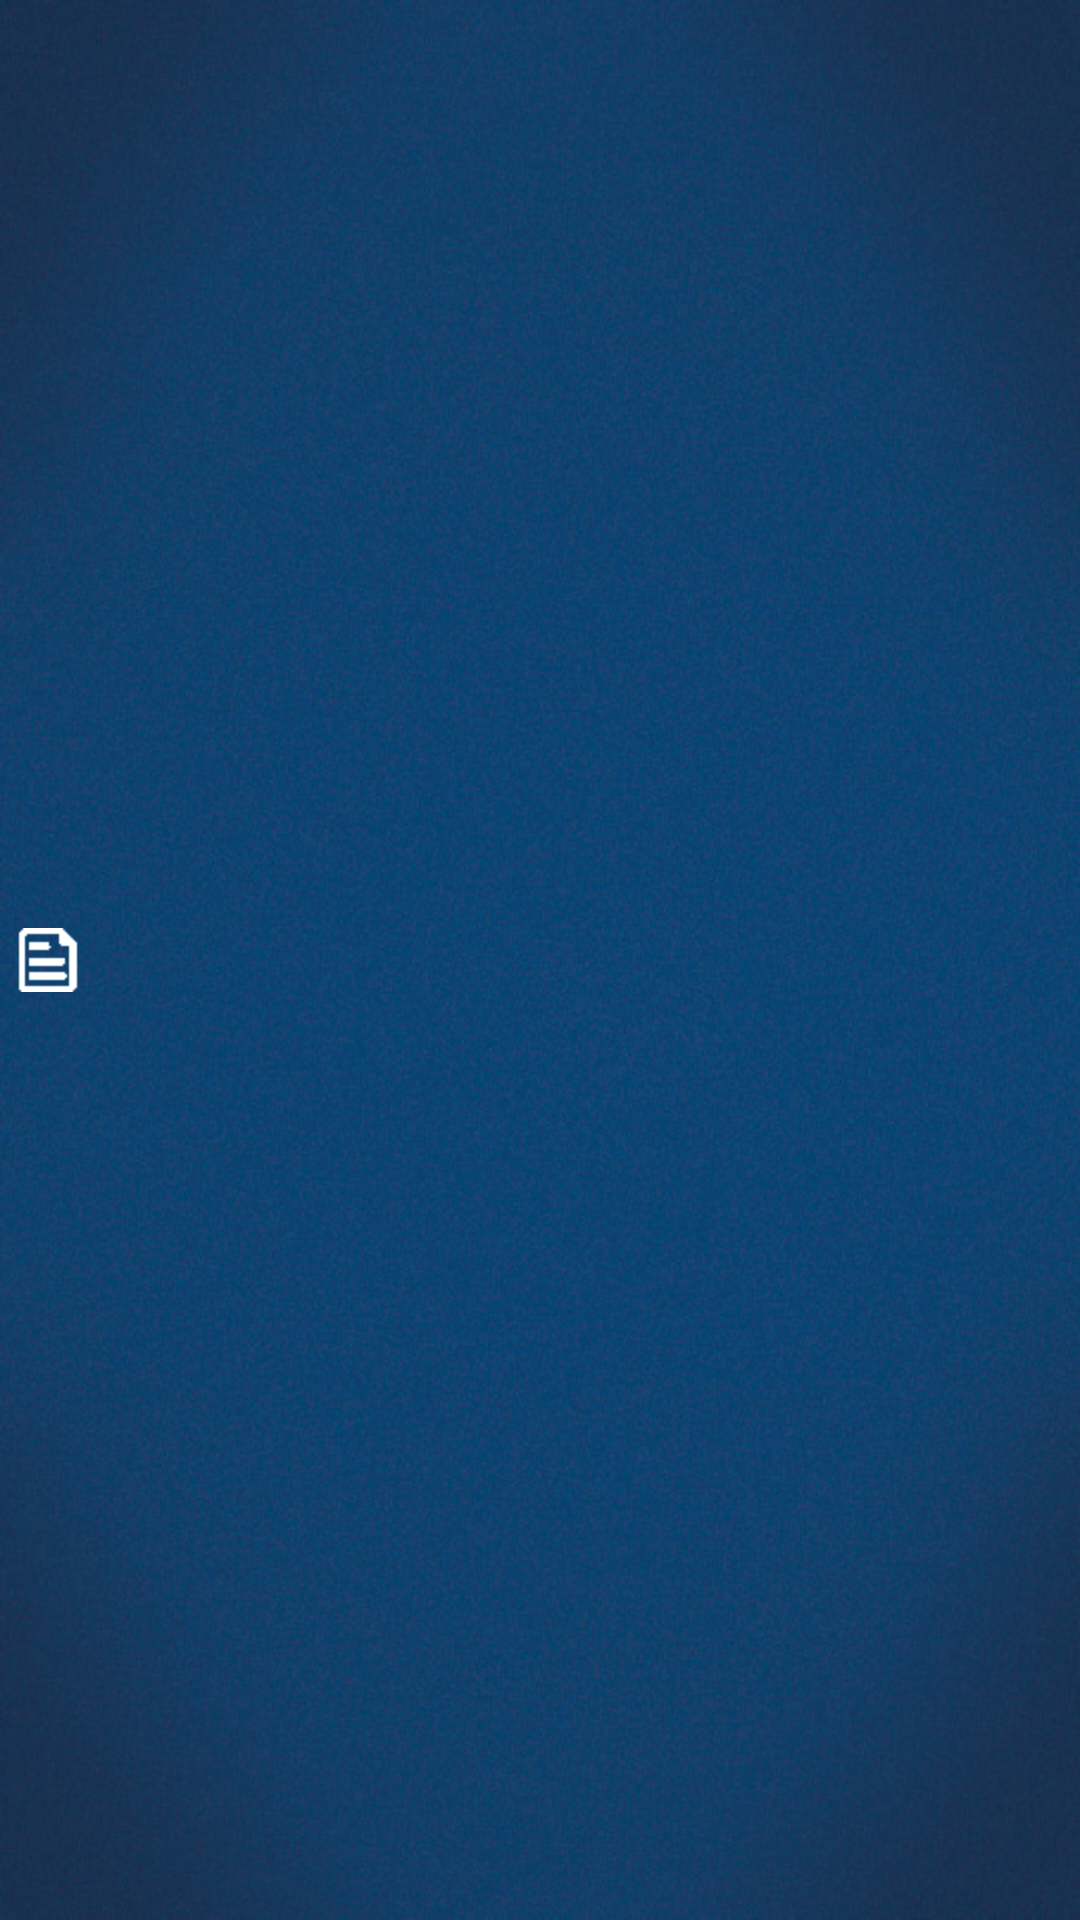

Where icons sit on this 1080*1920 app screen, as detection(x1, y1, x2, y2):
documents: detection(15, 928, 78, 992)
